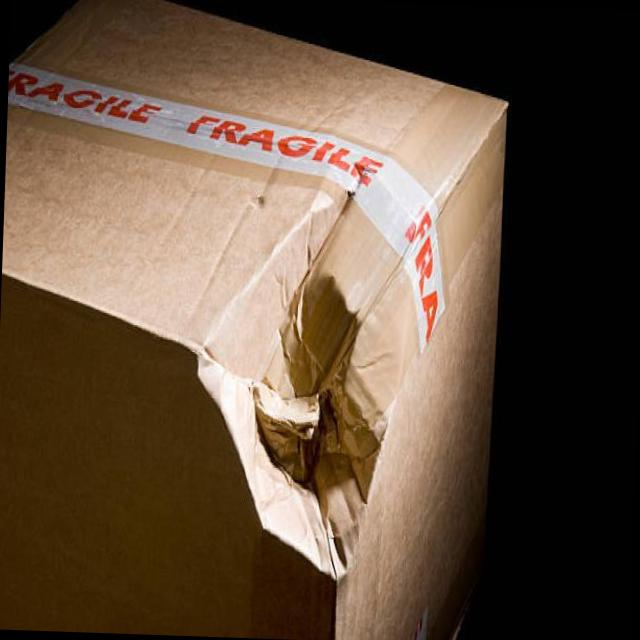box: (6, 377, 256, 640), (427, 350, 640, 603), (113, 204, 329, 420), (315, 173, 521, 391), (202, 1, 412, 211), (239, 388, 440, 586)
